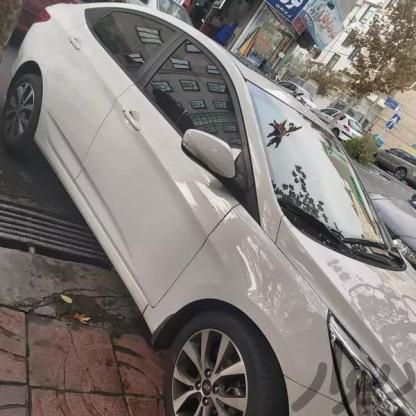Car: (0, 0, 416, 416), (320, 104, 368, 141), (378, 144, 416, 179)
